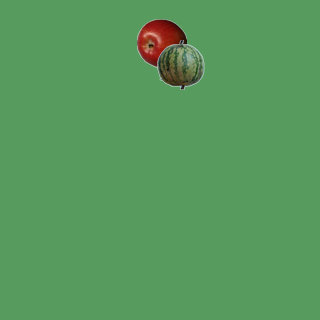Apple Braeburn: (136, 18, 186, 68)
Watermelon: (155, 39, 205, 89)
